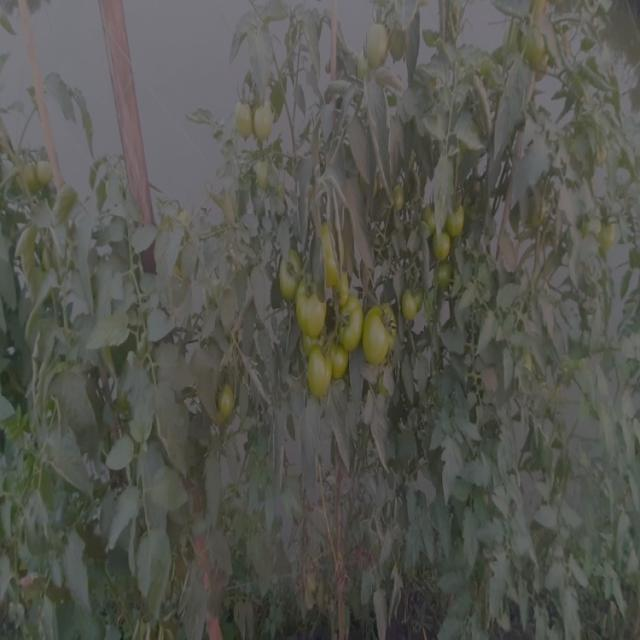tomato: (514, 16, 556, 75), (366, 301, 403, 367), (362, 18, 397, 74), (298, 280, 332, 337), (301, 342, 335, 395), (273, 249, 309, 295), (336, 306, 367, 350), (213, 379, 241, 425), (321, 230, 347, 278), (256, 99, 279, 148), (232, 93, 254, 140), (34, 149, 58, 192), (401, 289, 428, 325), (447, 198, 471, 237), (600, 214, 621, 256), (329, 347, 356, 378), (252, 157, 274, 195), (429, 232, 454, 262), (393, 179, 413, 213), (424, 199, 443, 234), (12, 161, 34, 190), (332, 281, 354, 306), (437, 267, 453, 291)
